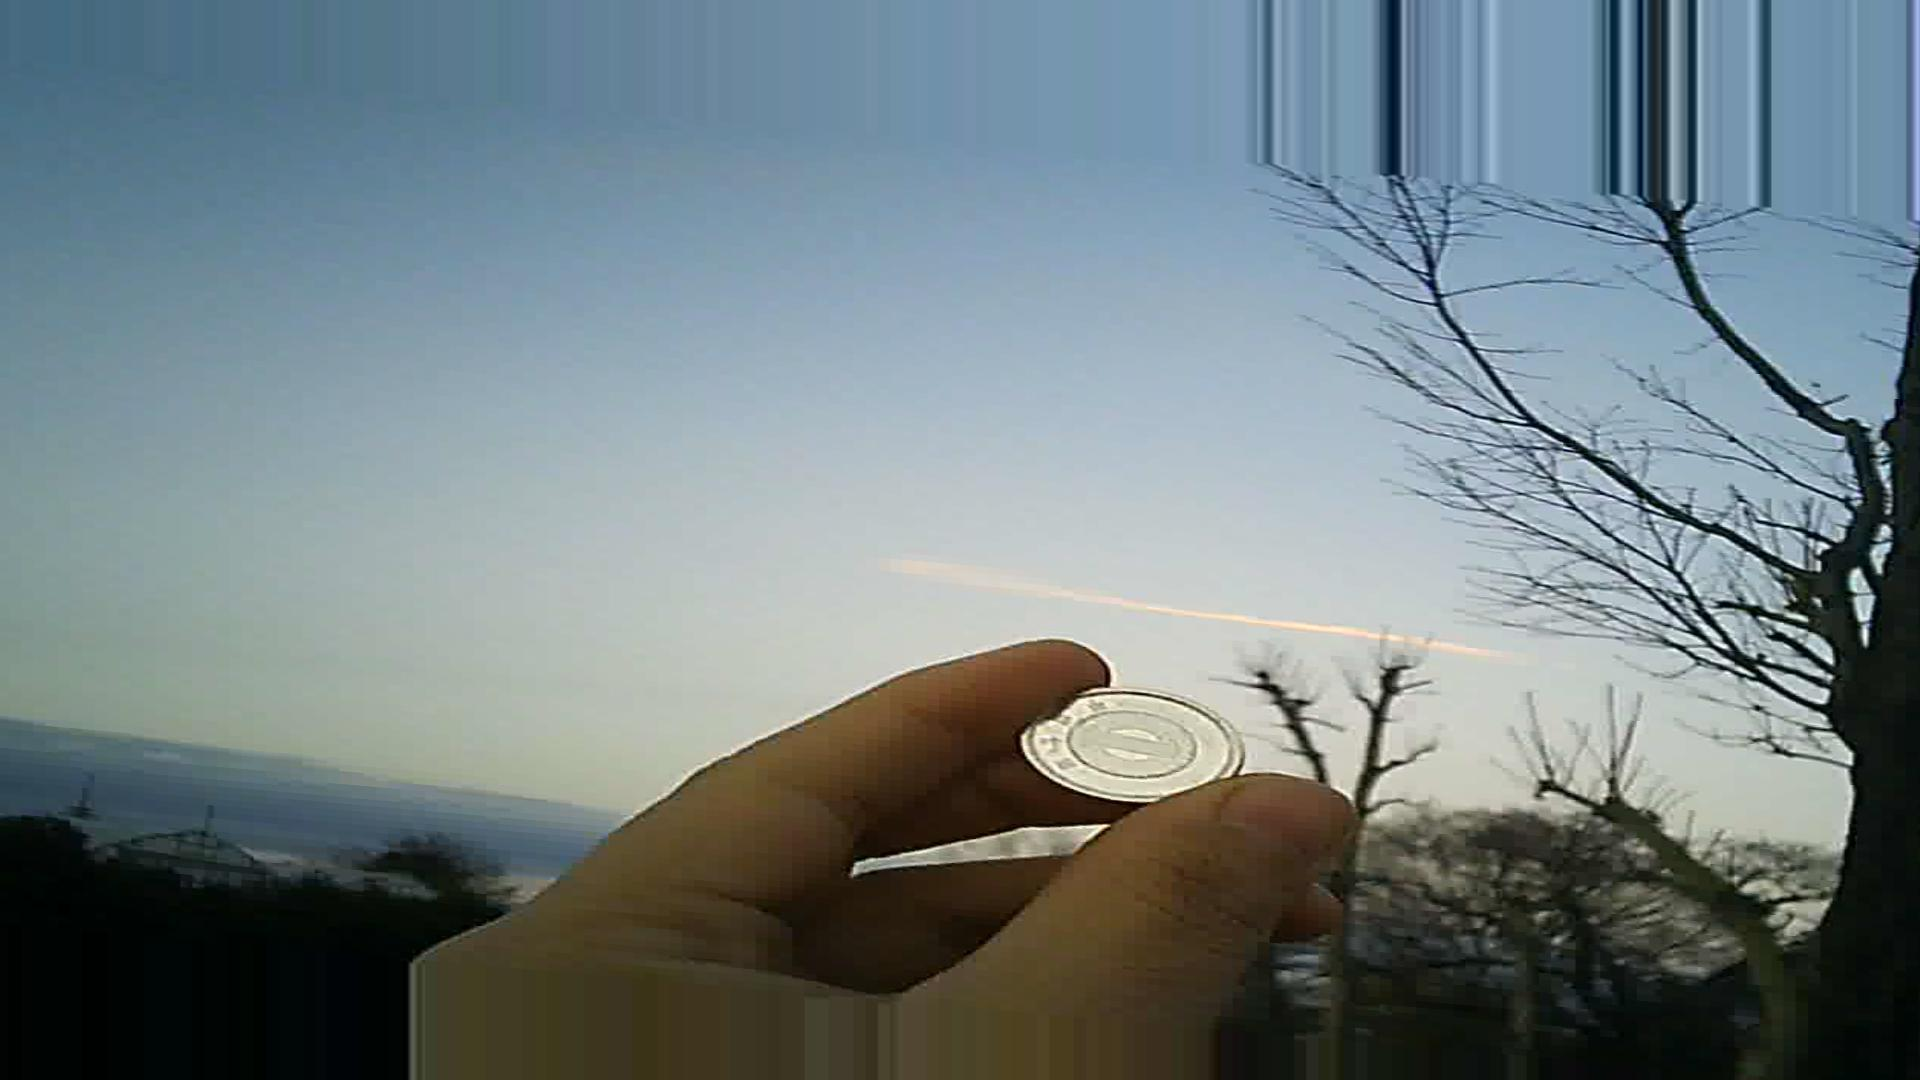1 Yen: (1014, 671, 1250, 810)
